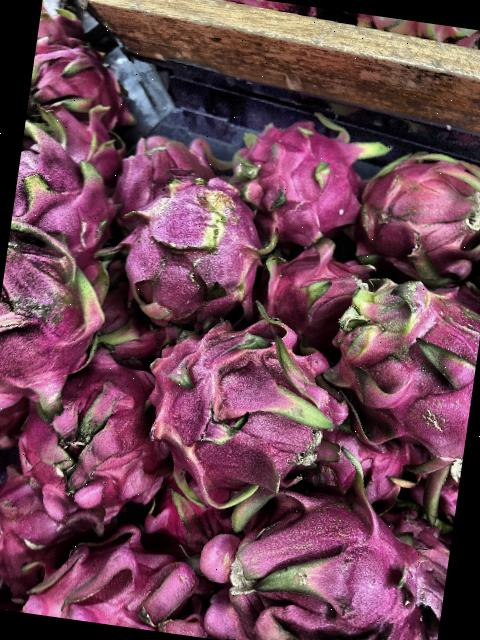buah-naga-matang: (128, 318, 363, 522), (197, 479, 452, 640), (314, 265, 480, 463), (0, 350, 182, 525), (116, 169, 276, 328), (0, 227, 119, 429), (18, 534, 220, 638), (343, 138, 480, 283), (220, 116, 373, 245), (9, 122, 124, 253), (25, 36, 146, 141), (252, 240, 369, 346), (19, 88, 135, 180), (112, 129, 218, 225)
